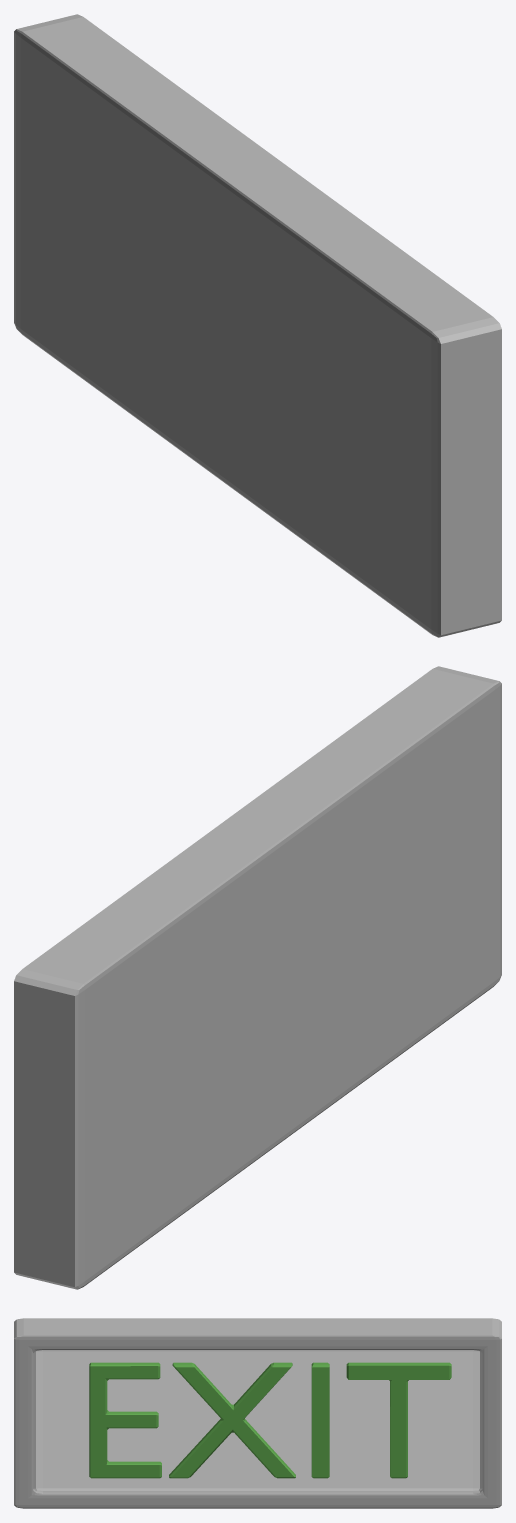
Rendered from ExitSign.fbx.
3 renders of one model, top to bottom at view 1: azimuth 30°, elevation 25°; view 2: azimuth 150°, elevation 25°; view 3: azimuth 270°, elevation 25°, orthographic. The views are drawn at different scales.
Parts seen in each view (by area): view 1: Cube; view 2: Cube; view 3: Cube.
Boxes of the visible parts, left/top/right/bottom form: Cube: left=14, top=14, right=501, bottom=637; Cube: left=14, top=666, right=501, bottom=1289; Cube: left=14, top=1318, right=501, bottom=1508.
Size of the model in its own units: 44.74 by 200 by 510.
